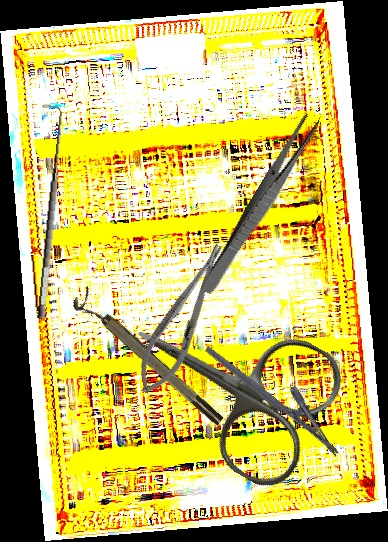Dressing Forceps: (198, 111, 323, 299)
Fixation Ring: (69, 285, 227, 435)
Hook Surgical: (20, 101, 70, 320)
Iris Scissors: (101, 265, 354, 498)
Needle Holder: (203, 327, 355, 458), (126, 235, 239, 403)
